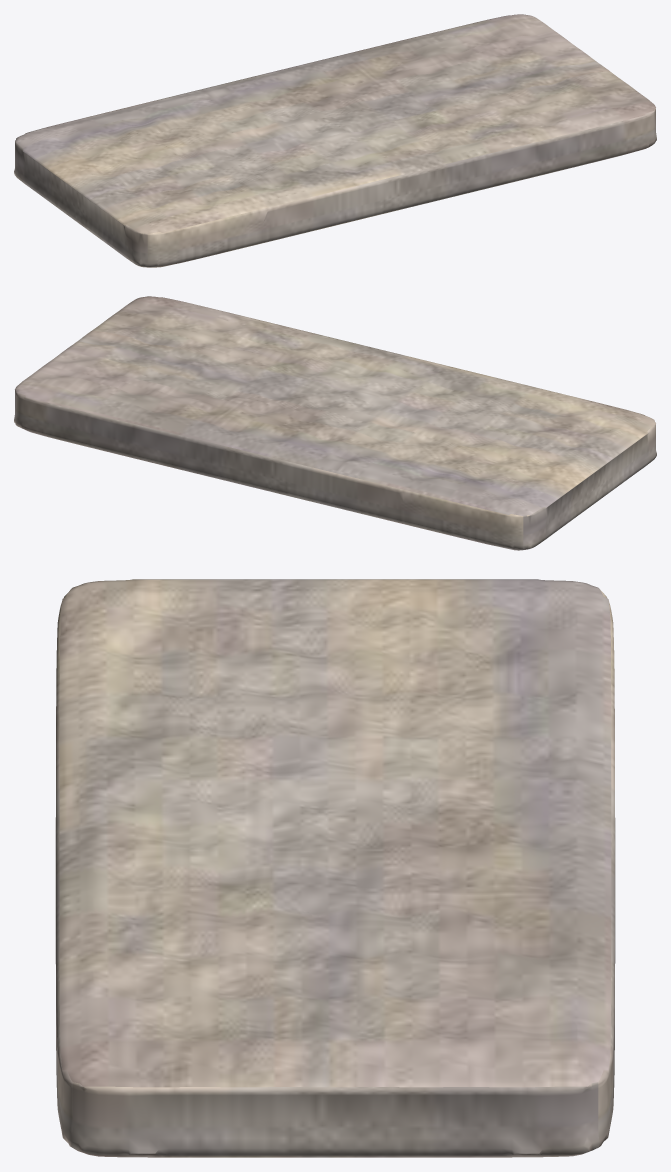
File: matras.glb
3 views of the same model, one above another, from view 1: azimuth 30°, elevation 25°; view 2: azimuth 150°, elevation 25°; view 3: azimuth 270°, elevation 25° (orthographic). The views are drawn at different scales.
Parts seen in each view (by area): view 1: Cube; view 2: Cube; view 3: Cube.
Boxes of the visible parts, left/top/right/bottom form: Cube: left=14, top=14, right=656, bottom=267; Cube: left=14, top=296, right=656, bottom=550; Cube: left=55, top=579, right=615, bottom=1157.
Bounding box in the file's own units: 4.24 × 0.369 × 1.96.
1 material, 1 textured.
